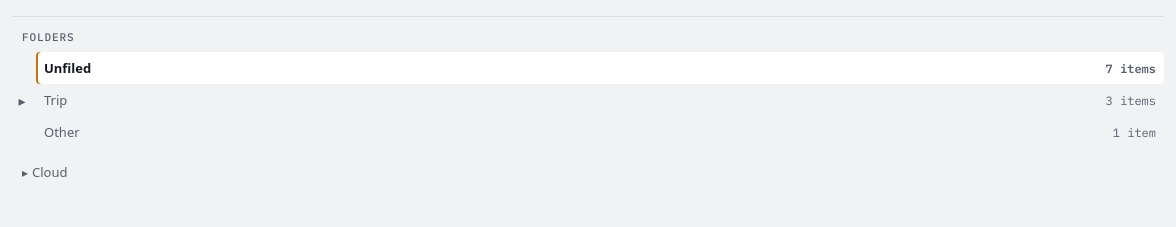
Test: SidebarFolders — curated primary › nests curated children under their parents with cumulative counts
Check: the list item "▸ Trip 3 items" is shown, box top-left (12, 84), bottom-right (1164, 116)
Click the button named "Expand Trip" at coordinates (22, 100), box top-left (12, 90), bottom-right (32, 110)
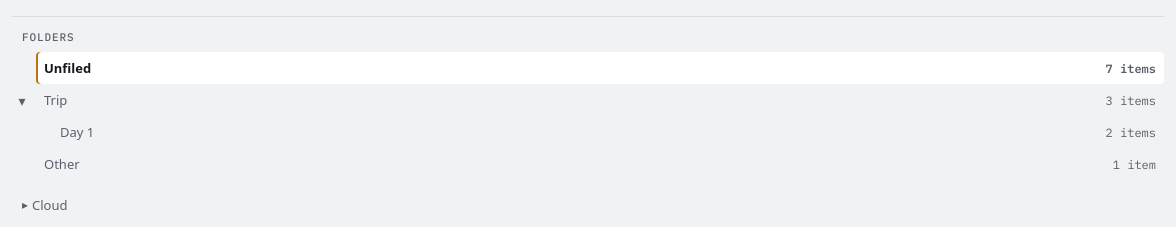
Check: the text "3 items" is shown, box top-left (1106, 93), bottom-right (1156, 109)
Check: the list item "Day 1 2 items" is shown, box top-left (12, 116), bottom-right (1164, 148)
